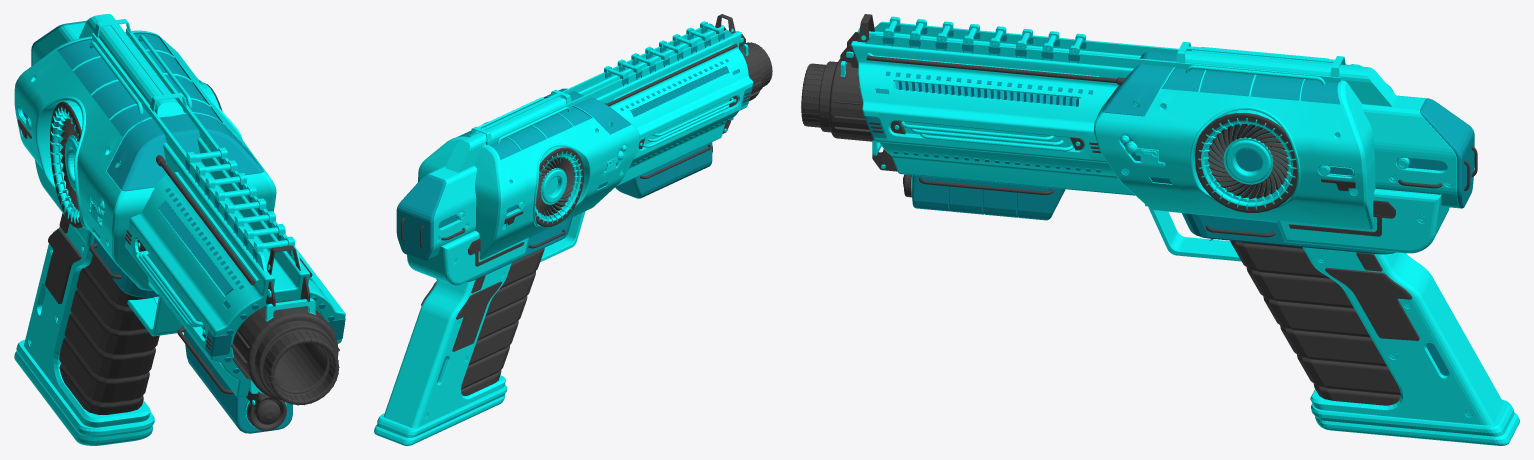
The model's file is Gun.fbx.
3 views of the same model, side by side, from view 1: azimuth 30°, elevation 25°; view 2: azimuth 150°, elevation 25°; view 3: azimuth 270°, elevation 25° (orthographic). The views are drawn at different scales.
Parts seen in each view (by area): view 1: Gun; view 2: Gun; view 3: Gun.
Boxes of the visible parts, left/top/right/bottom form: Gun: left=14, top=14, right=345, bottom=445; Gun: left=374, top=14, right=772, bottom=445; Gun: left=801, top=14, right=1519, bottom=445.
Size of the model in its own units: 448 by 732 by 1336.
